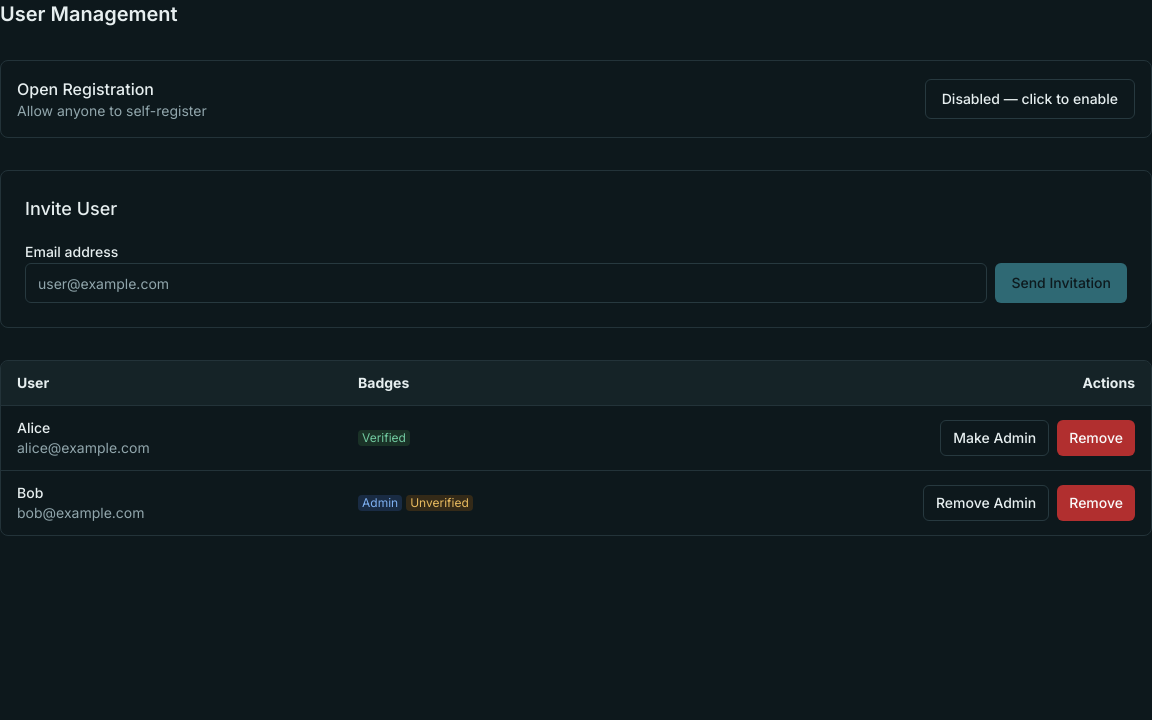
Test: UsersClient — remove user › cancelling closes the dialog without removing
expect the text "Alice" is shown: met, box [17,419,50,436]
Click the button "Remove" in the row of "alice@example.com": (1096, 438) [1057,420,1135,456]
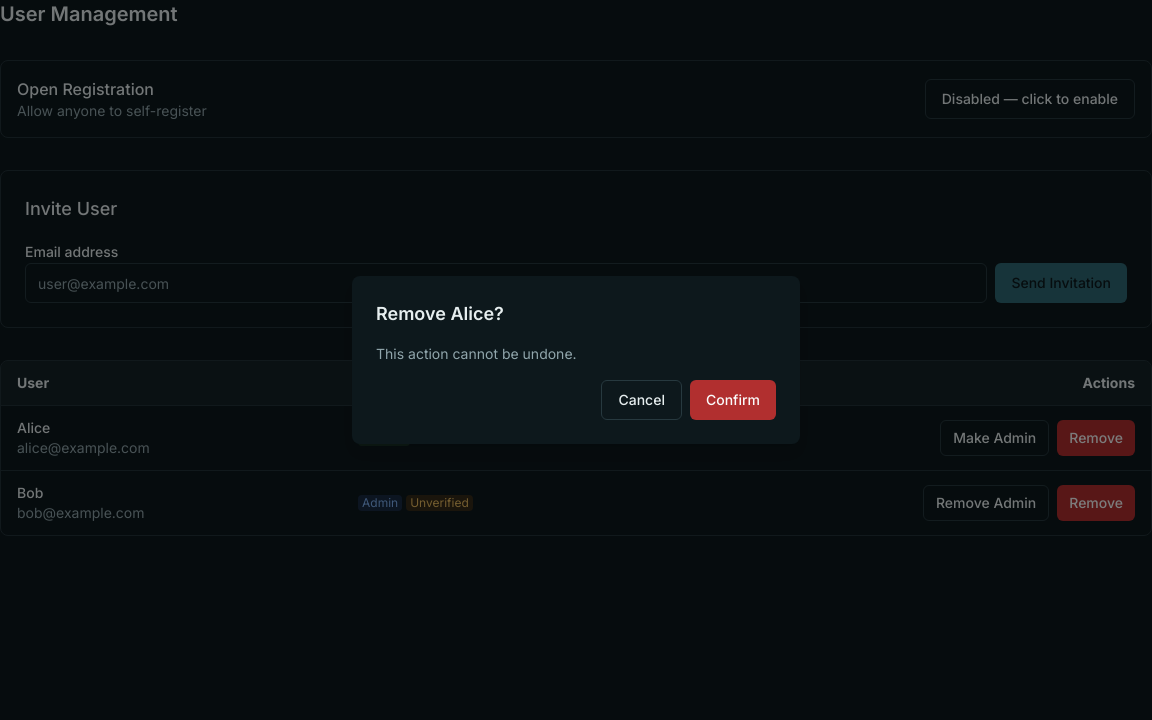
expect the heading "Remove Alice?" is shown: met, box [376,303,504,324]
Click the button "Cancel": (642, 400) [602,380,682,420]
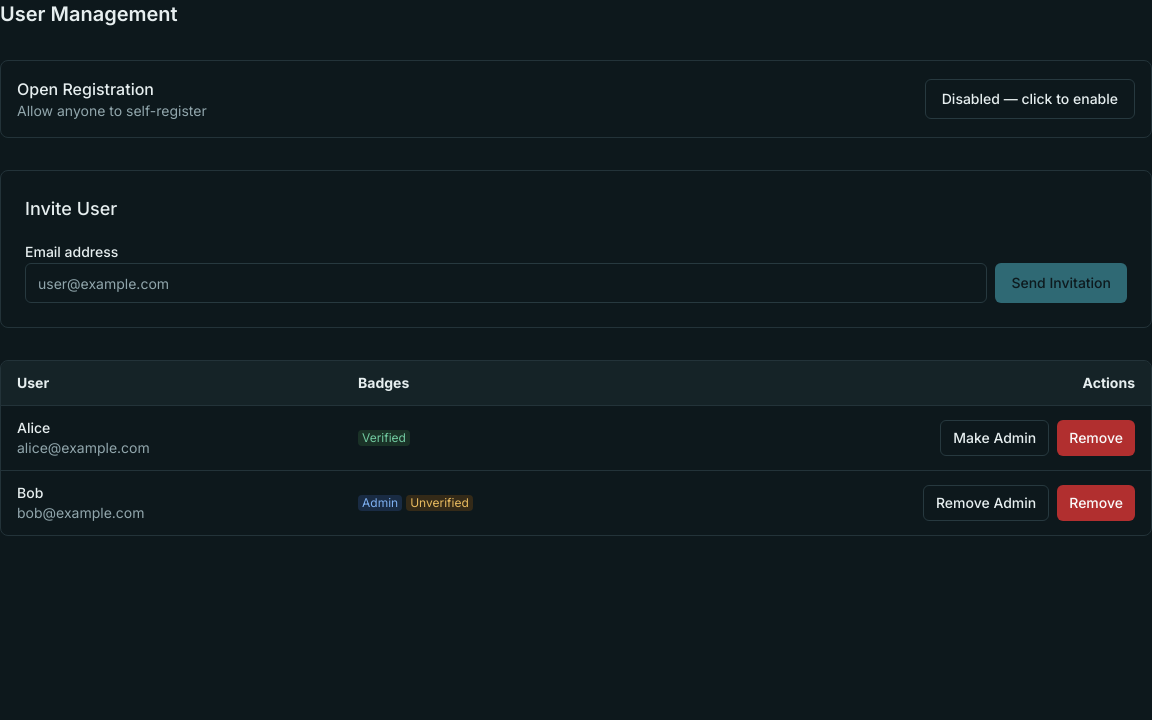
expect the heading "Remove Alice?" is gone: met
